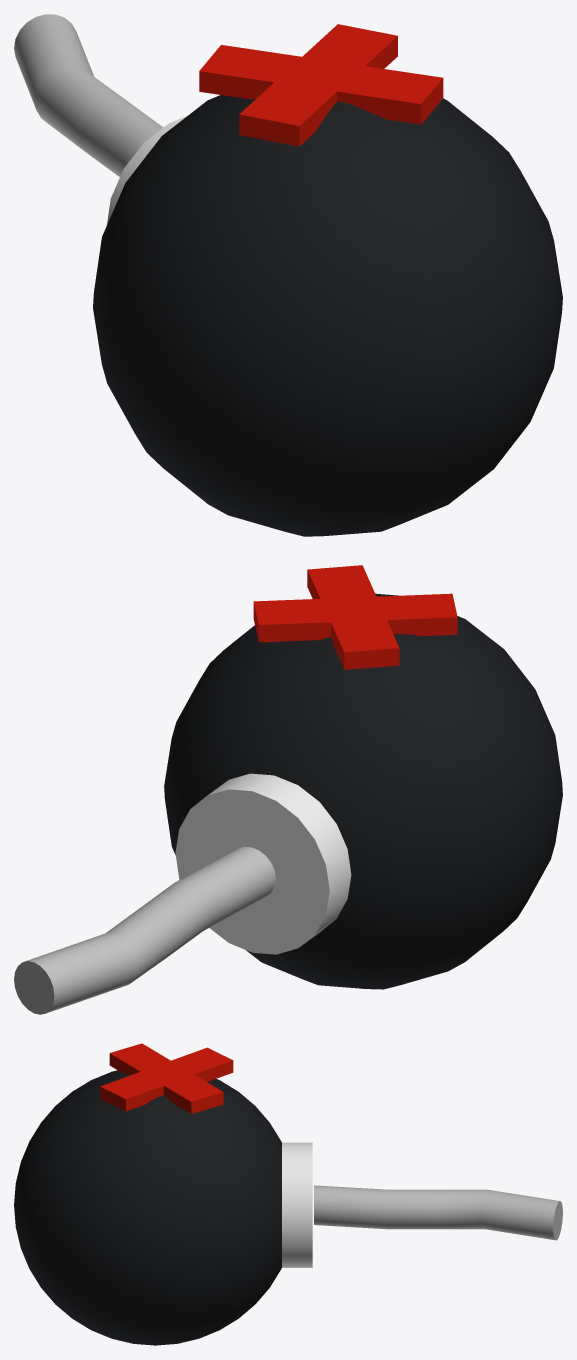
Rendered from bomb.fbx.
3 renders of one model, top to bottom at view 1: azimuth 30°, elevation 25°; view 2: azimuth 150°, elevation 25°; view 3: azimuth 270°, elevation 25°, orthographic. The views are drawn at different scales.
Parts seen in each view (by area): view 1: pCylinder9; view 2: pCylinder9; view 3: pCylinder9.
Boxes of the visible parts, bbox=[...] form: pCylinder9: bbox=[14, 14, 562, 536]; pCylinder9: bbox=[14, 565, 562, 1014]; pCylinder9: bbox=[14, 1043, 562, 1345].
Bounding box in the file's own units: 200 × 203 × 388.
